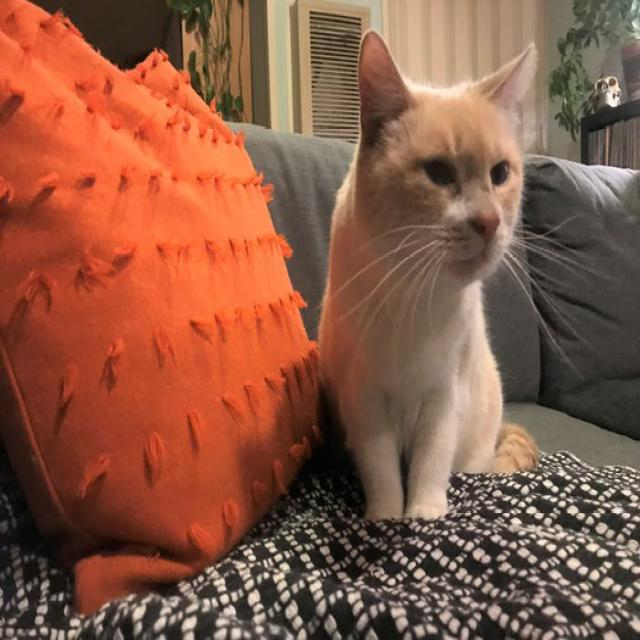cat: (350, 65, 558, 348)
